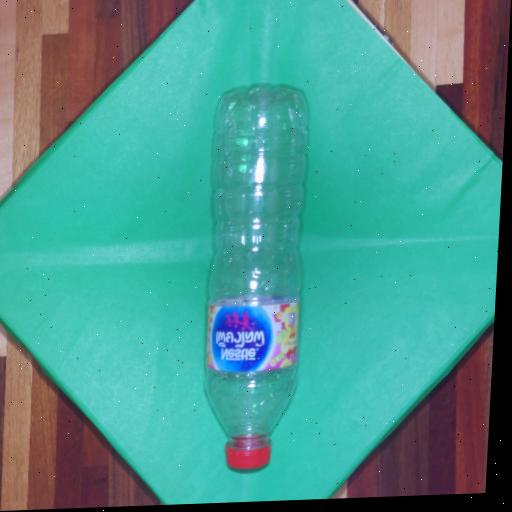bottle: (188, 67, 323, 484)
